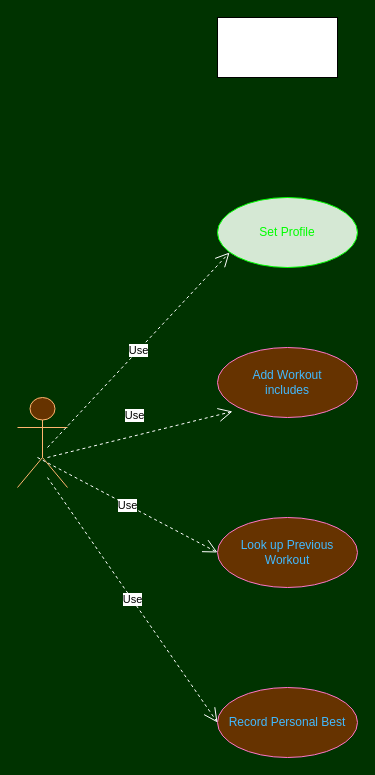
This 375x775 diagram has some shape labels left out. Here are the shapes that lost their labels. From the top down, the box of each, then its label:
(216, 16, 338, 78): Workout Tracker
(16, 396, 68, 488): Actor
